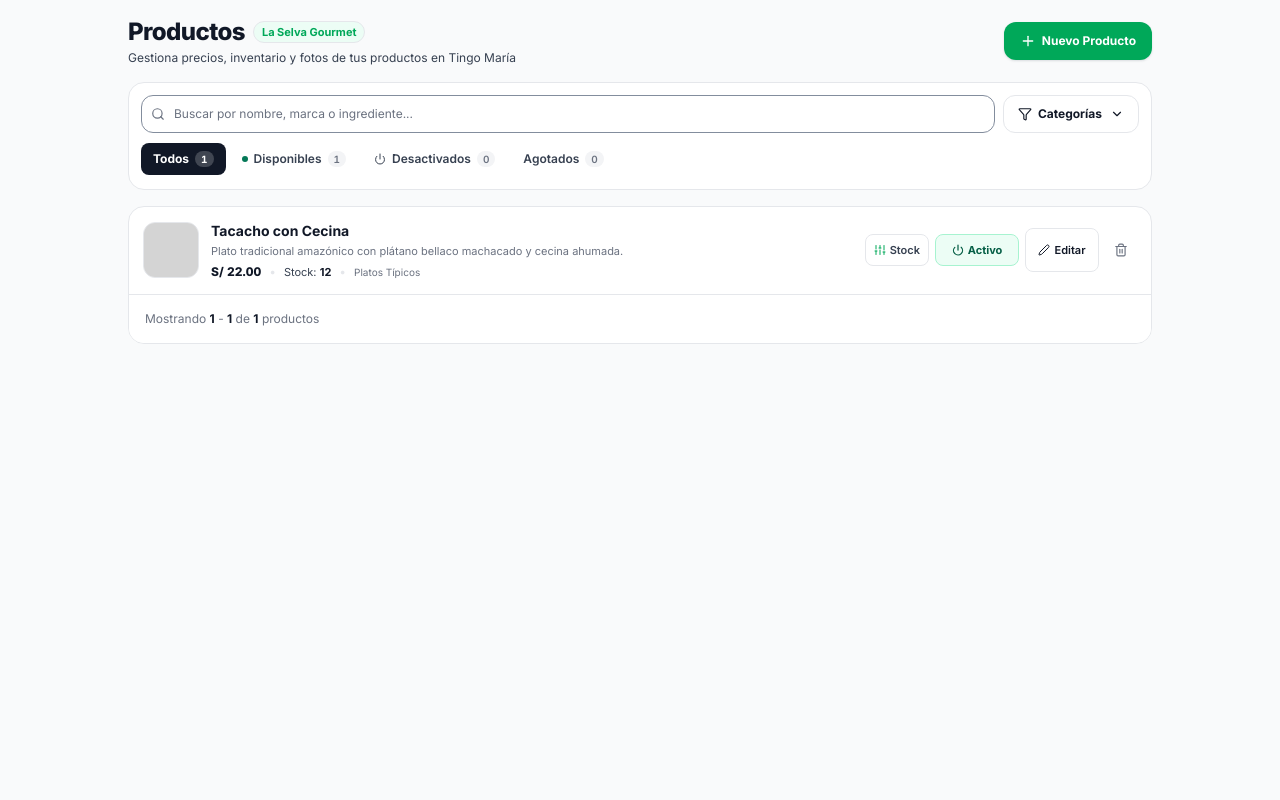
Test: Bloque 4: Productos e Inventario (MerchantProductsPage) › elimina un producto del catálogo tras confirmación
Click the button titled "Eliminar producto del catálogo".
click(1121, 250)  # box [1105,234,1137,266]
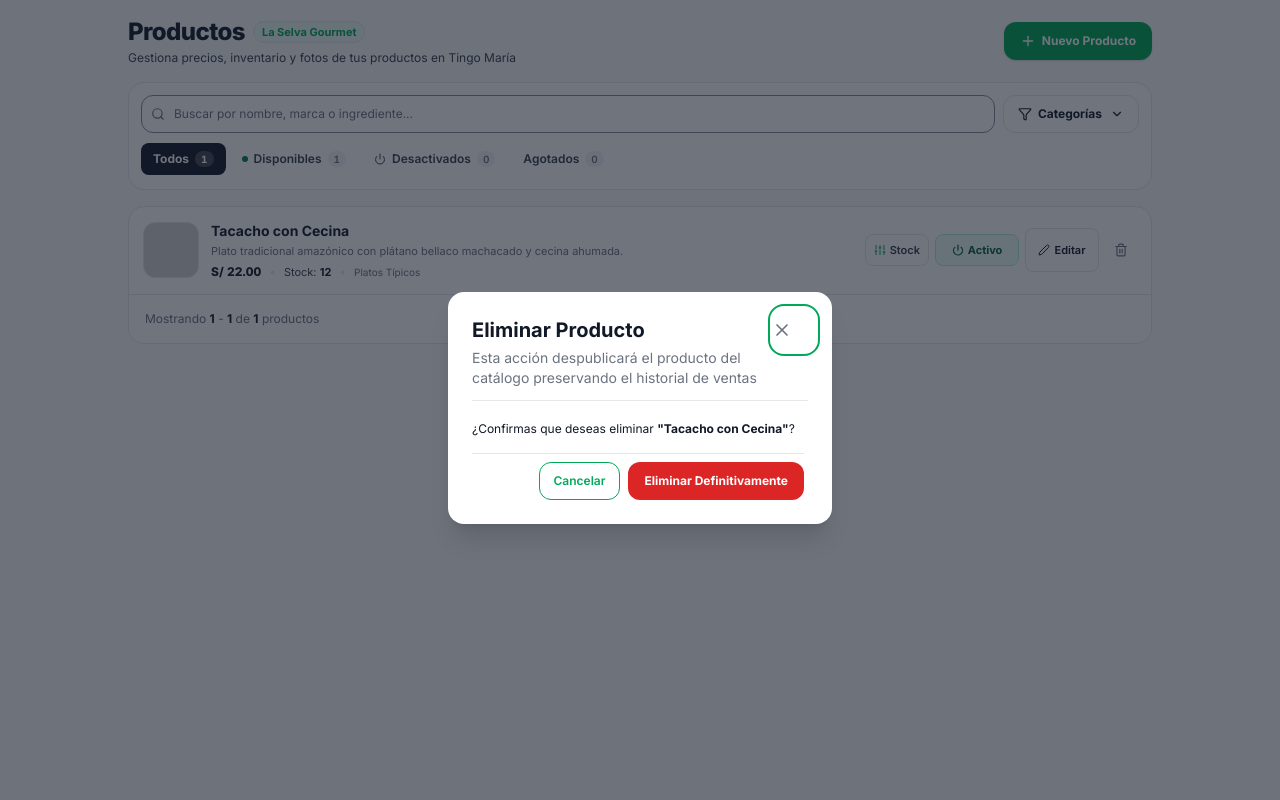
Click the button "Eliminar Definitivamente".
click(716, 481)  # box [628,462,804,500]
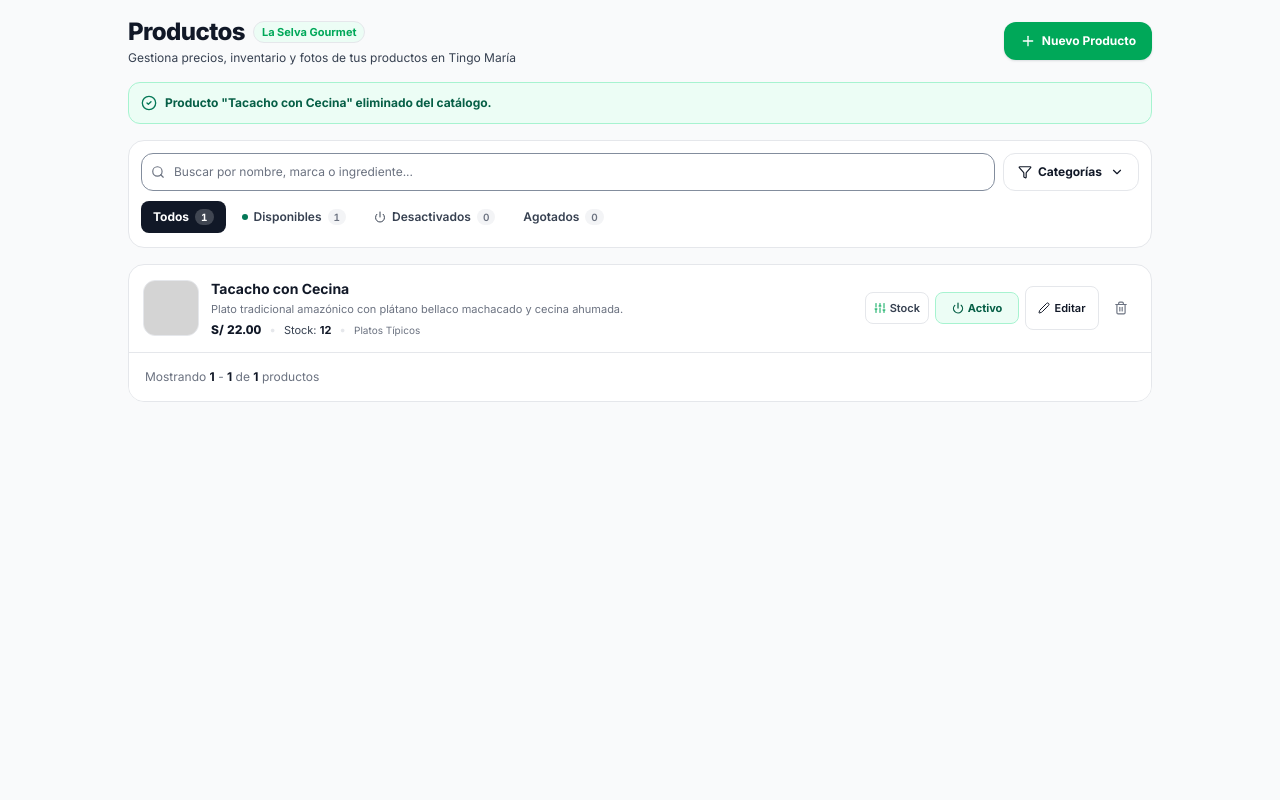
Result: the text "Producto \"Tacacho con Cecina\" eliminado del catálogo." is shown at [165,95,492,111]
